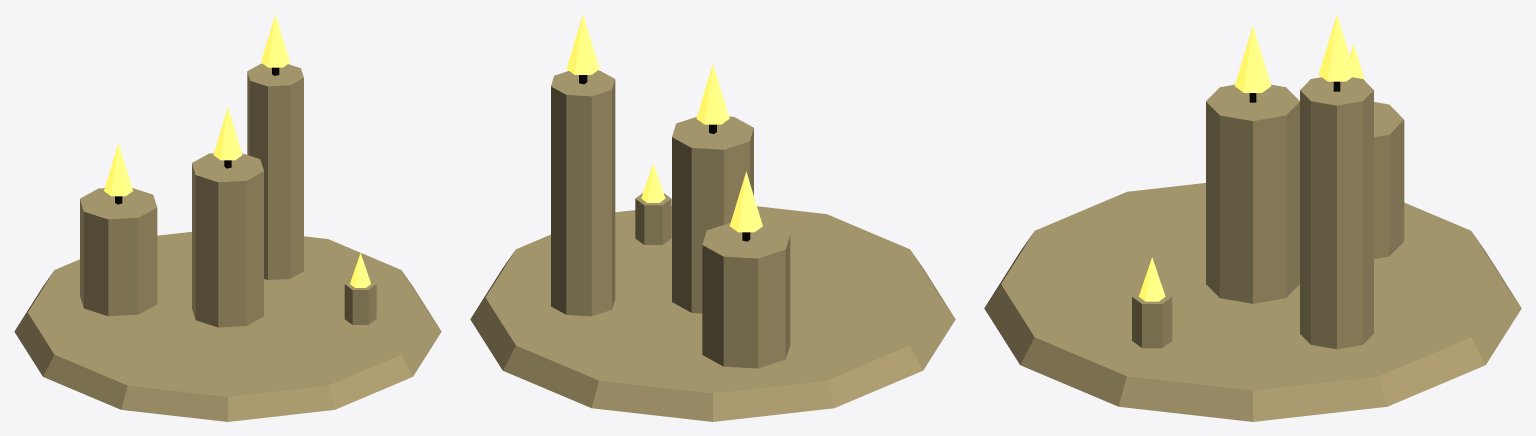
File: SM_HLight_Candles.glb
3 views of the same model, side by side, from view 1: azimuth 30°, elevation 25°; view 2: azimuth 150°, elevation 25°; view 3: azimuth 270°, elevation 25° (orthographic). The views are drawn at different scales.
Parts seen in each view (by area): view 1: SM_HLight_Candles; view 2: SM_HLight_Candles; view 3: SM_HLight_Candles.
Part boxes in pixels (x1=…): SM_HLight_Candles: x1=14, y1=14, x2=441, y2=421; SM_HLight_Candles: x1=470, y1=14, x2=955, y2=421; SM_HLight_Candles: x1=984, y1=15, x2=1521, y2=421.
Bounding box in the file's own units: 0.32 × 0.226 × 0.32.
